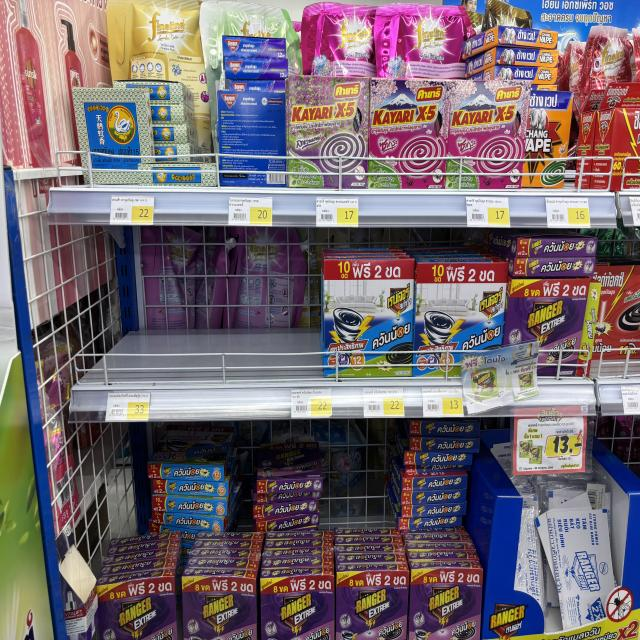empty_shelf: (77, 249, 323, 379)
